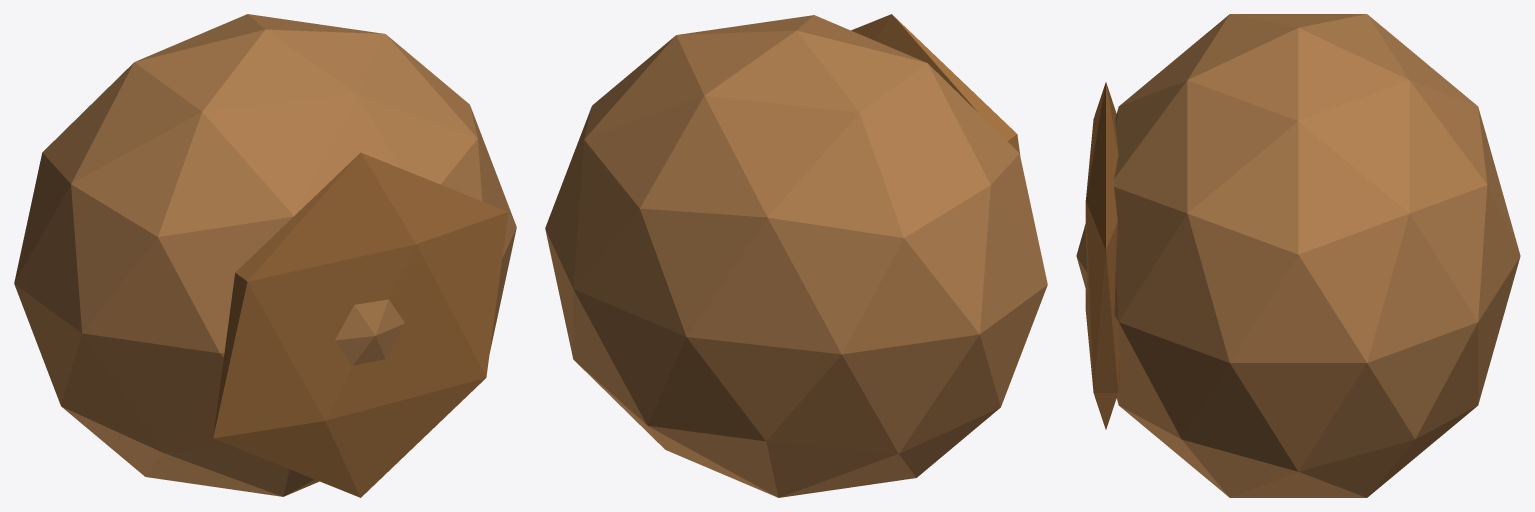
The model's file is harvest_drop_walnut.glb.
3 renders of one model, left to right at view 1: azimuth 30°, elevation 25°; view 2: azimuth 150°, elevation 25°; view 3: azimuth 270°, elevation 25°, orthographic.
Parts seen in each view (by area): view 1: FTF_Harvest_Drop_Walnut_Mesh; view 2: FTF_Harvest_Drop_Walnut_Mesh; view 3: FTF_Harvest_Drop_Walnut_Mesh.
Part boxes in pixels (left/top/right/bottom): FTF_Harvest_Drop_Walnut_Mesh: left=14, top=14, right=516, bottom=497; FTF_Harvest_Drop_Walnut_Mesh: left=545, top=14, right=1047, bottom=497; FTF_Harvest_Drop_Walnut_Mesh: left=1076, top=14, right=1520, bottom=497.
Bounding box in the file's own units: 0.3424 × 0.34 × 0.3.
